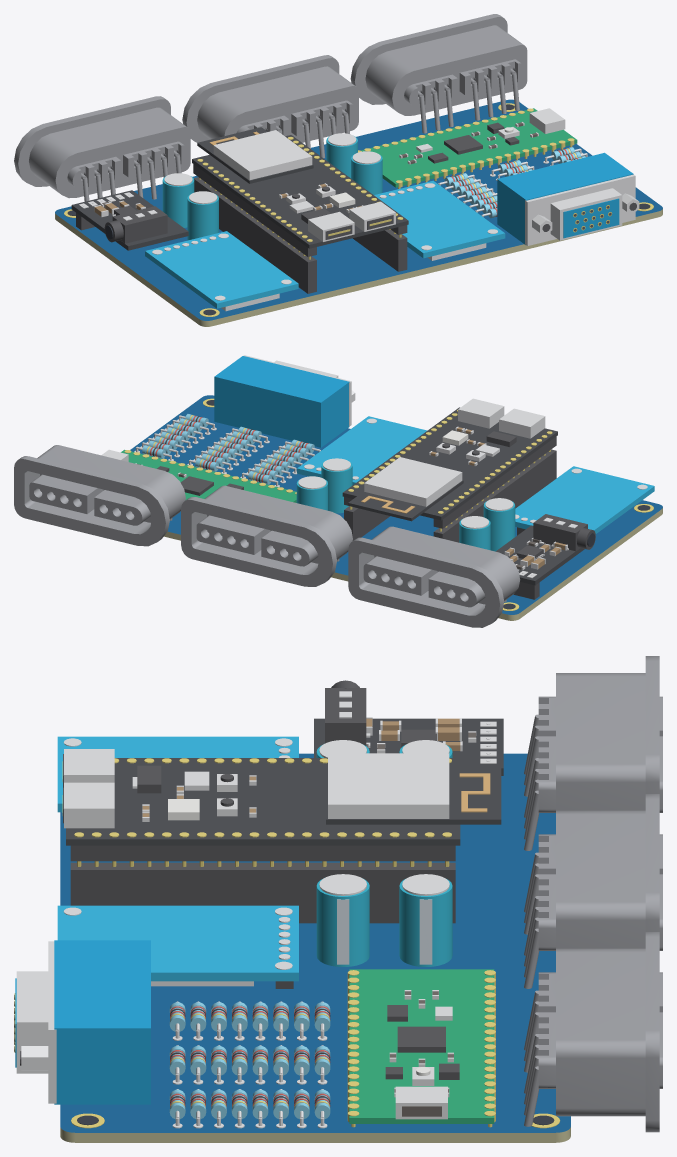
File: lupi-pcb.glb
3 renders of one model, top to bottom at view 1: azimuth 30°, elevation 25°; view 2: azimuth 150°, elevation 25°; view 3: azimuth 270°, elevation 25°, orthographic. The views are drawn at different scales.
Parts seen in each view (by area): view 1: snes_ports, esp32_module, main_pcb, daughterboards, db15_connector, pico_module, capacitors, audio_dac_module, resistors; view 2: snes_ports, esp32_module, db15_connector, daughterboards, main_pcb, resistors, capacitors, audio_dac_module, pico_module; view 3: esp32_module, snes_ports, main_pcb, pico_module, daughterboards, db15_connector, resistors, capacitors, audio_dac_module.
Part boxes in pixels (x1=…): snes_ports: x1=14, y1=14, x2=527, y2=201; esp32_module: x1=192, y1=127, x2=408, y2=293; main_pcb: x1=55, y1=99, x2=662, y2=326; daughterboards: x1=145, y1=180, x2=505, y2=311; db15_connector: x1=497, y1=152, x2=639, y2=245; pico_module: x1=358, y1=108, x2=577, y2=188; capacitors: x1=162, y1=133, x2=382, y2=240; audio_dac_module: x1=71, y1=190, x2=188, y2=250; resistors: x1=438, y1=147, x2=587, y2=218; snes_ports: x1=14, y1=445, x2=520, y2=627; esp32_module: x1=342, y1=398, x2=557, y2=542; db15_connector: x1=214, y1=355, x2=355, y2=447; daughterboards: x1=297, y1=416, x2=654, y2=535; main_pcb: x1=130, y1=395, x2=662, y2=620; resistors: x1=134, y1=414, x2=320, y2=487; capacitors: x1=296, y1=458, x2=515, y2=551; audio_dac_module: x1=496, y1=514, x2=595, y2=599; pico_module: x1=101, y1=449, x2=296, y2=502; esp32_module: x1=62, y1=749, x2=501, y2=923; snes_ports: x1=524, y1=656, x2=662, y2=1132; main_pcb: x1=60, y1=753, x2=570, y2=1142; pico_module: x1=347, y1=969, x2=495, y2=1127; daughterboards: x1=57, y1=736, x2=298, y2=988; db15_connector: x1=14, y1=940, x2=150, y2=1104; resistors: x1=169, y1=1001, x2=330, y2=1128; capacitors: x1=316, y1=740, x2=452, y2=966; audio_dac_module: x1=314, y1=680, x2=503, y2=775.
Size of the model in its own units: 138 by 18.82 by 94.07.
